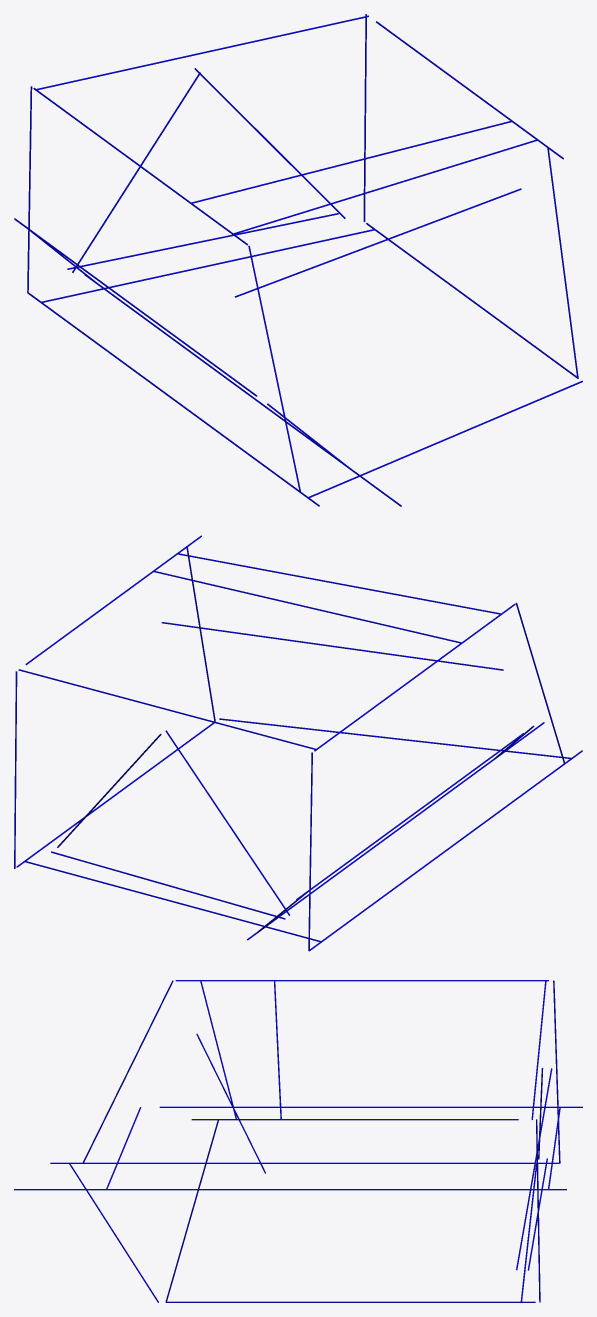
The model's file is corrected_3d_strokes.glb.
3 views of the same model, one above another, from view 1: azimuth 30°, elevation 25°; view 2: azimuth 150°, elevation 25°; view 3: azimuth 270°, elevation 25° (orthographic). The views are drawn at different scales.
Parts seen in each view (by area): view 1: world; view 2: world; view 3: world.
Part boxes in pixels (bbox=[...]): world: bbox=[14, 14, 582, 506]; world: bbox=[14, 535, 582, 951]; world: bbox=[14, 980, 582, 1302].
Bounding box in the file's own units: 8.89 × 5.47 × 15.33.
